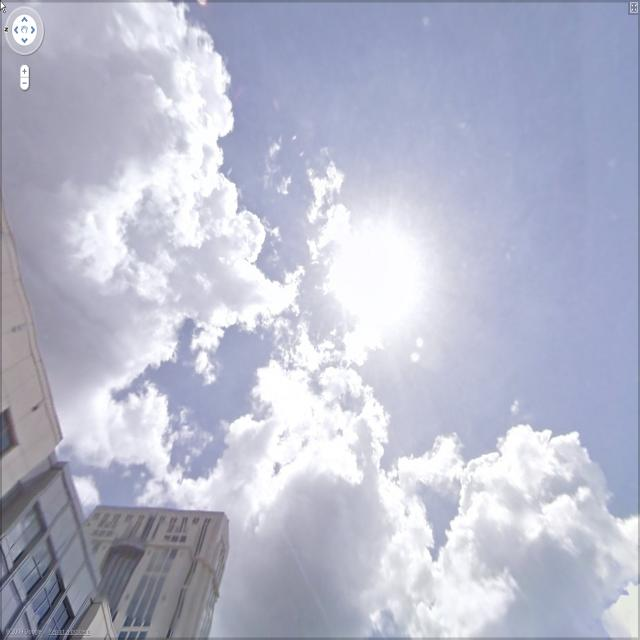b_1: (1, 184, 222, 631)
